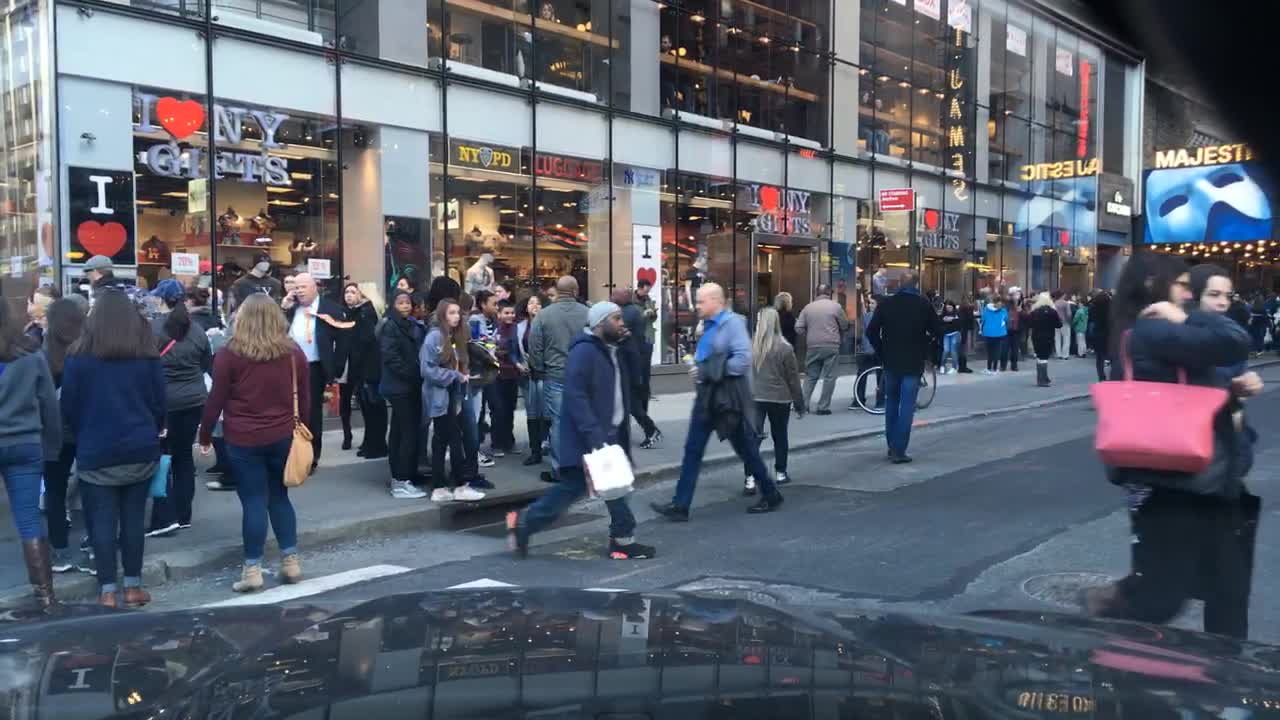bike: (852, 358, 938, 415)
person: (1076, 253, 1247, 642), (504, 299, 659, 561), (61, 286, 172, 608), (200, 289, 319, 588), (648, 276, 785, 524), (1181, 260, 1265, 640), (0, 273, 67, 621), (149, 277, 213, 539), (522, 273, 599, 482), (866, 266, 937, 462), (420, 299, 488, 502), (742, 303, 809, 491), (374, 291, 433, 498), (282, 274, 342, 474), (797, 282, 848, 420), (338, 282, 374, 465), (469, 283, 502, 454), (609, 283, 652, 386), (77, 251, 131, 308), (1085, 281, 1113, 382), (1026, 285, 1057, 367), (631, 268, 659, 345), (981, 291, 1007, 368), (767, 286, 797, 349), (939, 299, 962, 376), (1003, 285, 1024, 367), (1249, 285, 1273, 350), (392, 267, 425, 314), (957, 287, 978, 352), (1071, 291, 1091, 356), (1057, 292, 1075, 361), (489, 277, 517, 315), (1226, 283, 1246, 324)
rider: (851, 291, 890, 412)
